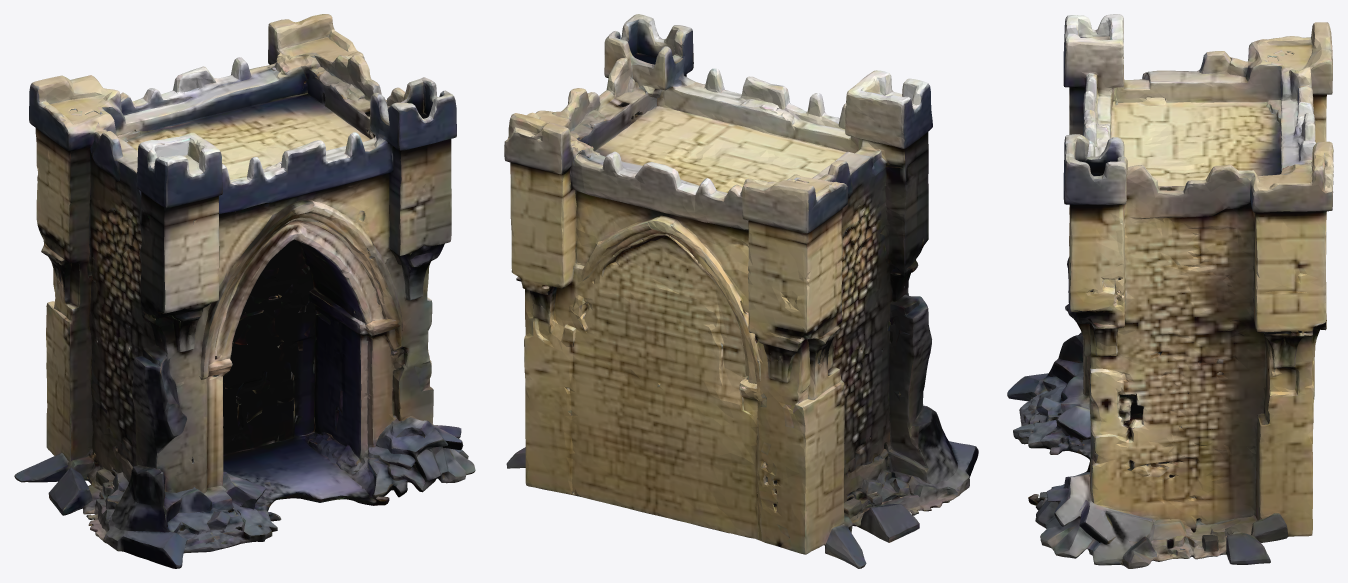
File: war_gatehouse_ruin_01.glb
3 views of the same model, side by side, from view 1: azimuth 30°, elevation 25°; view 2: azimuth 150°, elevation 25°; view 3: azimuth 270°, elevation 25° (orthographic). The views are drawn at different scales.
Visible parts, largest first — view 1: geometry_0; view 2: geometry_0; view 3: geometry_0.
Part boxes in pixels (bbox=[...]): geometry_0: bbox=[14, 14, 475, 568]; geometry_0: bbox=[504, 14, 978, 568]; geometry_0: bbox=[1007, 14, 1333, 568].
Bounding box in the file's own units: 0.9985 × 1 × 0.7464.
1 material, 1 textured.
